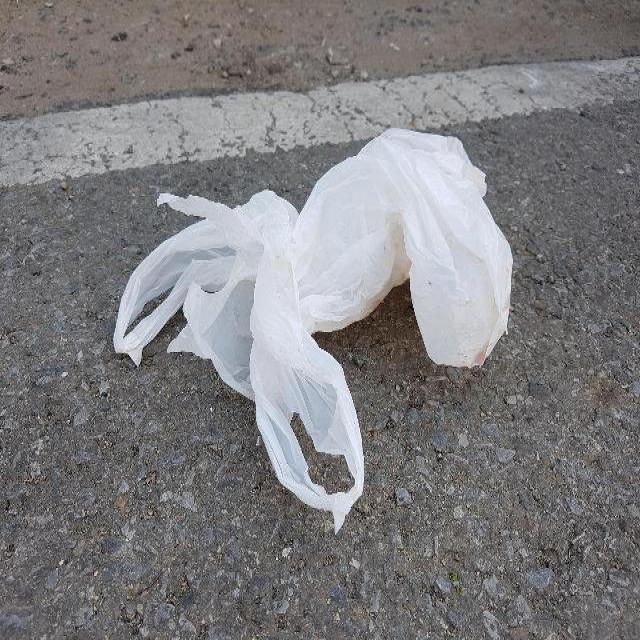plastic bag: (108, 126, 520, 540)
